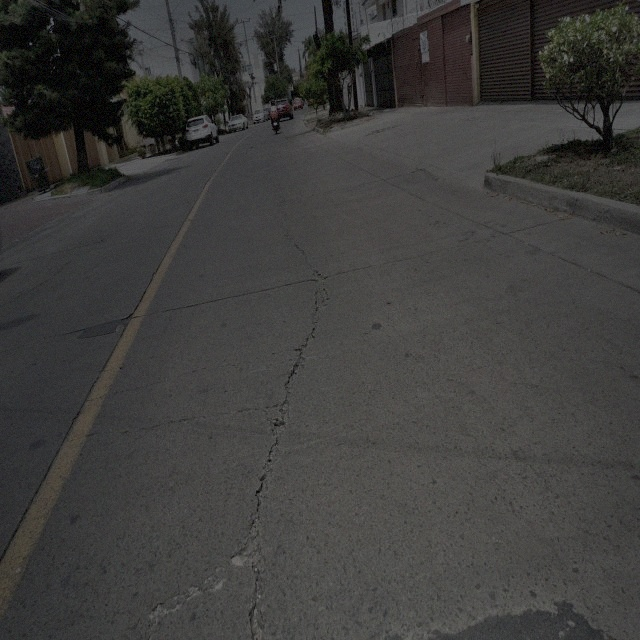pothole: (230, 517, 260, 570), (314, 272, 328, 317), (246, 600, 264, 632)
